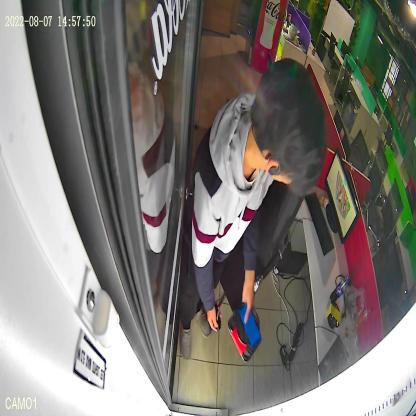blue: (236, 305, 262, 350)
red: (228, 314, 262, 362)
